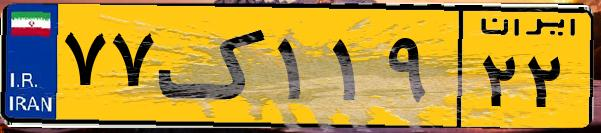1: (270, 28, 330, 110), (330, 28, 385, 110)
2: (475, 38, 525, 113), (525, 38, 570, 115)
7: (57, 26, 110, 100), (110, 28, 158, 98)
9: (385, 28, 445, 110)
ک: (158, 12, 270, 120)
